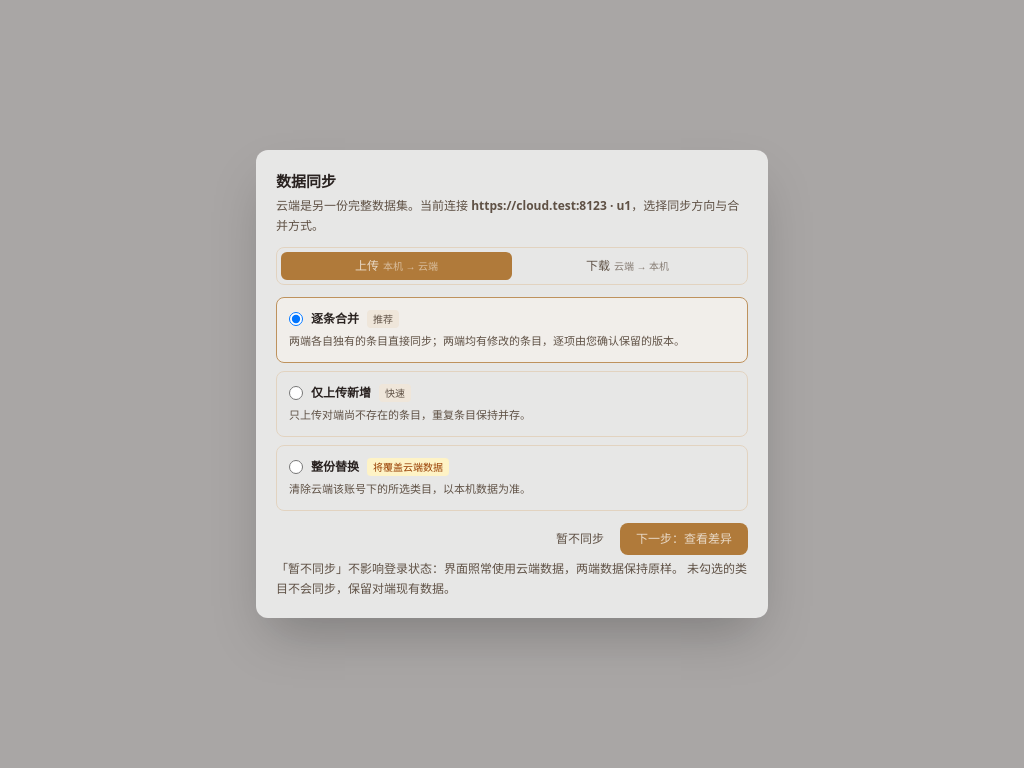
Test: SyncWizard › 完成屏两句必说的话一句都不能少
The width and height of the screenshot is (1024, 768).
What coordinates should you click on to do the following:
click the button "下一步：查看差异"
I would click on:
 (684, 539)
Its box is x1=620 y1=523 x2=748 y2=555.
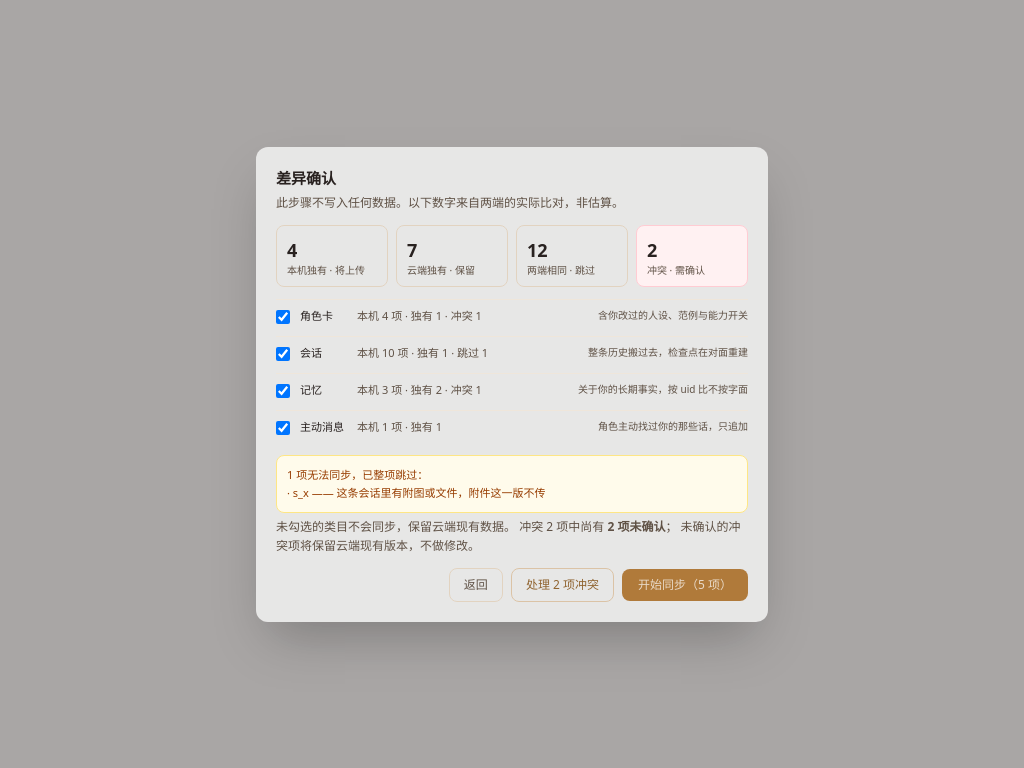
Result: the heading "差异确认" is shown at x1=276 y1=168 x2=336 y2=188
What coordinates should you click on to do the following:
click the button "开始同步（5 项）"
I would click on:
 (685, 584)
Its box is x1=622 y1=568 x2=748 y2=600.
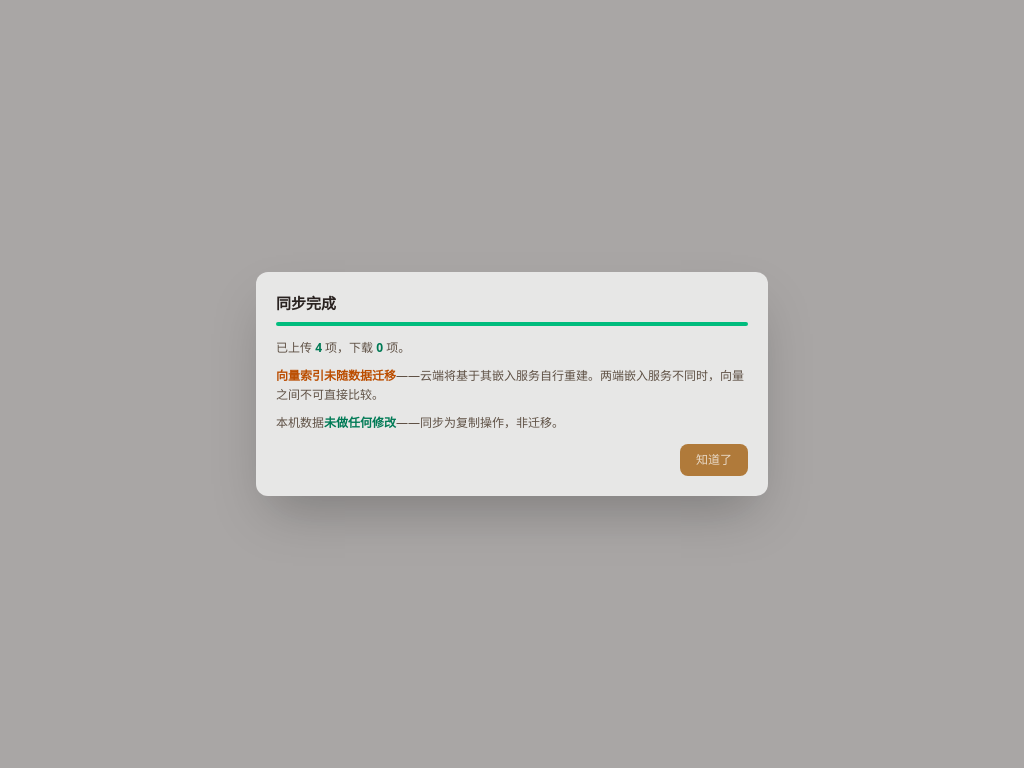
Result: the heading "同步完成" is shown at x1=276 y1=293 x2=336 y2=313
Result: the text "向量索引未随数据迁移" is shown at x1=276 y1=367 x2=396 y2=384
Result: the text "本机数据未做任何修改——同步为复制操作，非迁移。" is shown at x1=276 y1=414 x2=564 y2=431
